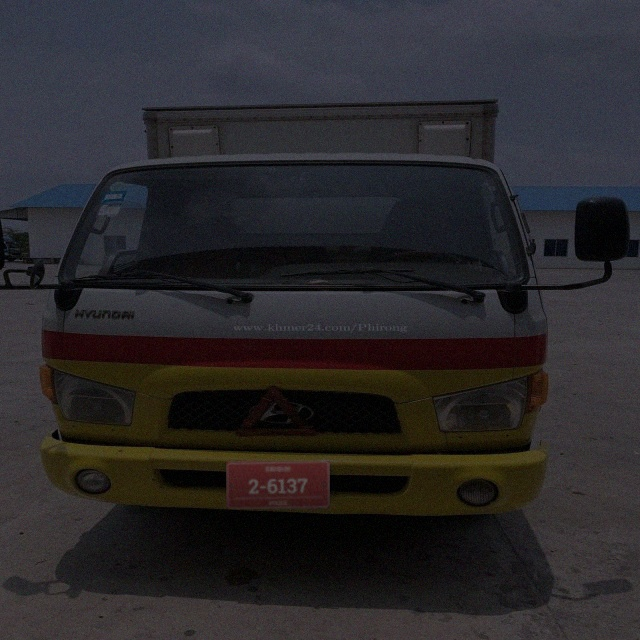Plate Number: (227, 461, 330, 509)
